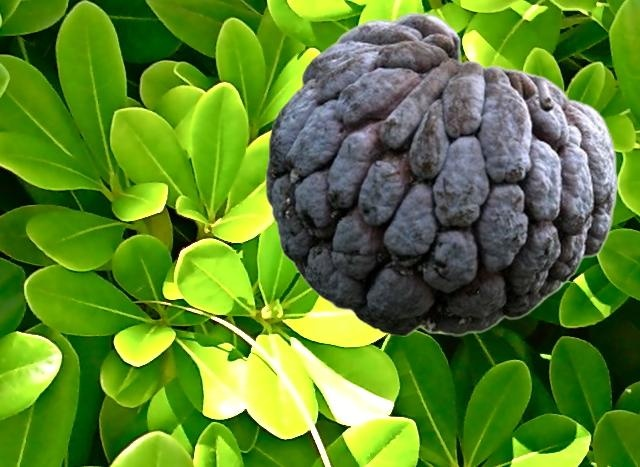atis: (265, 11, 617, 335)
